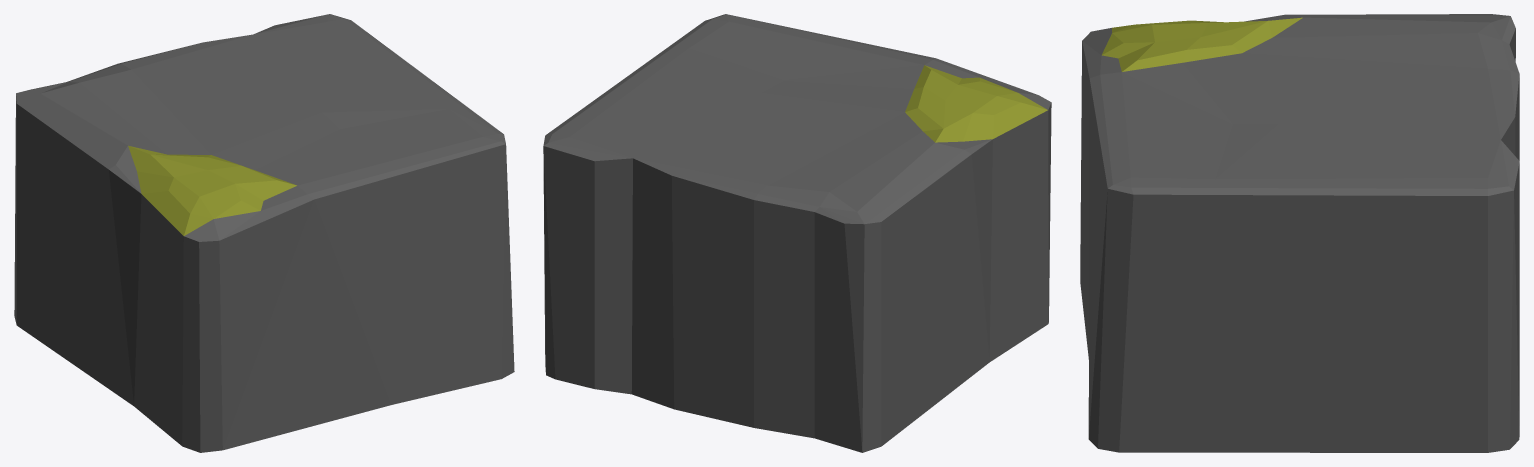
The model's file is tile_squared_moss_type_4_LOD1.fbx.
3 views of the same model, side by side, from view 1: azimuth 30°, elevation 25°; view 2: azimuth 150°, elevation 25°; view 3: azimuth 270°, elevation 25° (orthographic). The views are drawn at different scales.
Visible parts, largest first — view 1: tile_squared_moss_type_4; view 2: tile_squared_moss_type_4; view 3: tile_squared_moss_type_4.
Part boxes in pixels (bbox=[...]): tile_squared_moss_type_4: bbox=[14, 14, 514, 452]; tile_squared_moss_type_4: bbox=[543, 14, 1051, 452]; tile_squared_moss_type_4: bbox=[1080, 14, 1519, 452].
Bounding box in the file's own units: 120 × 82.05 × 120.
